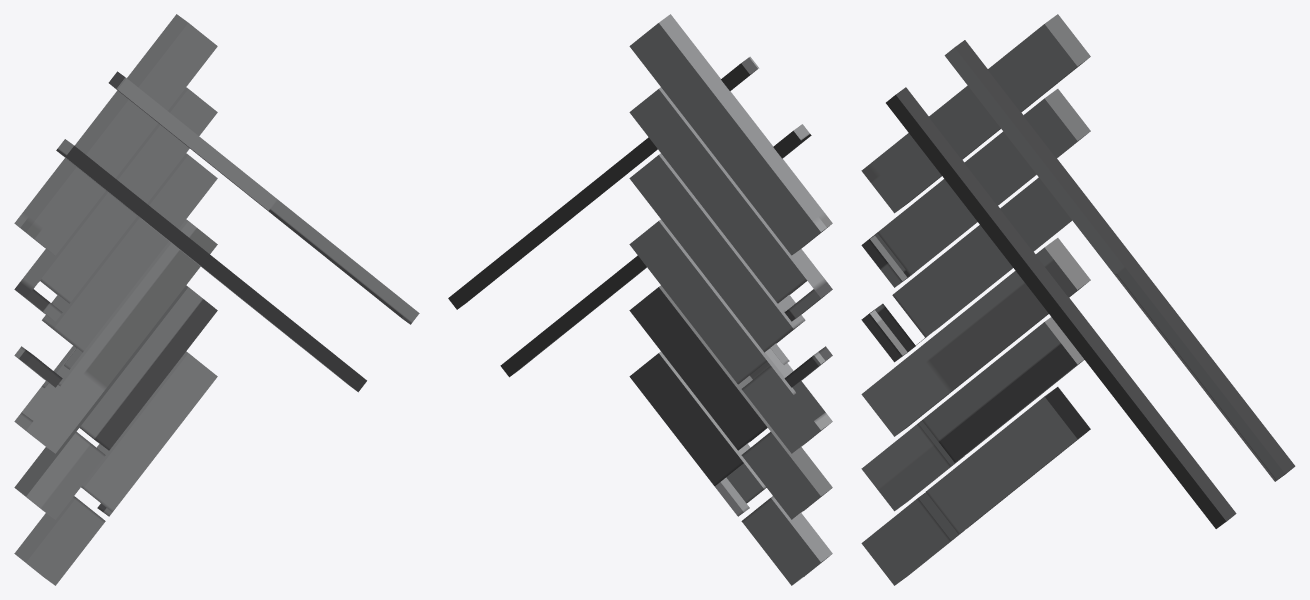
3 renders of one model, left to right at view 1: azimuth 30°, elevation 25°; view 2: azimuth 150°, elevation 25°; view 3: azimuth 330°, elevation 25°, orthographic. The views are drawn at different scales.
Size of the model in its own units: 0.9409 by 1.24 by 0.0881.
